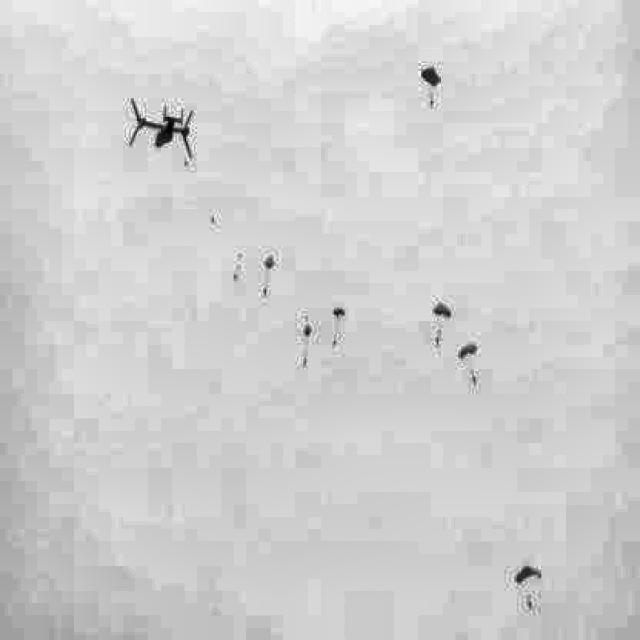V22: (128, 98, 194, 159)
